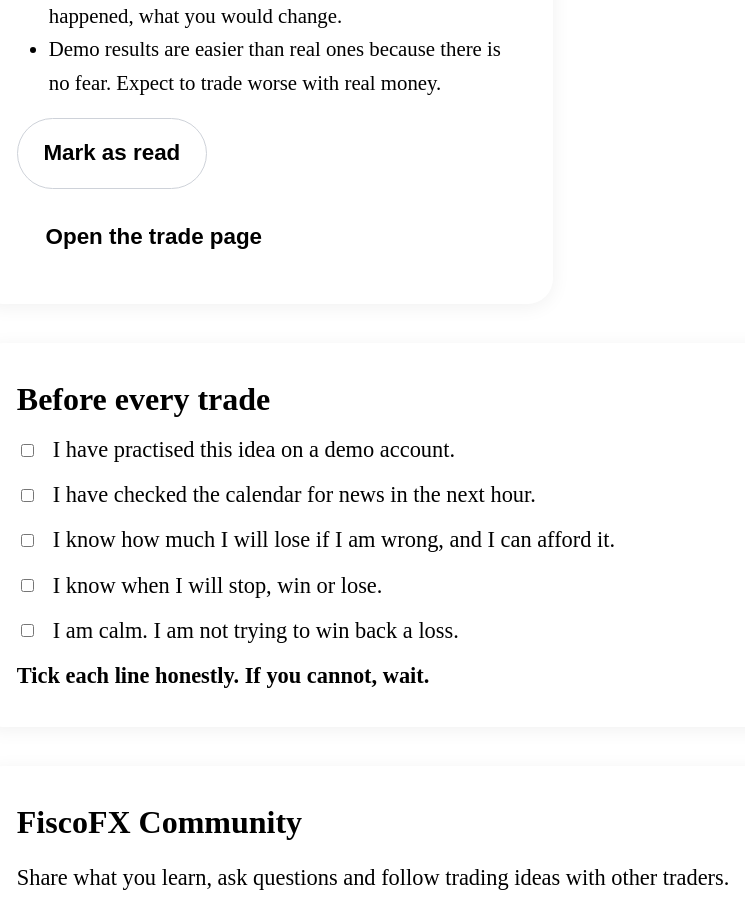
<Learn /> › only says "you have thought it through" when every checklist line is ticked
The width and height of the screenshot is (745, 900).
(page scrolled)
Expected: the text with test id "dt_learn_ready" shows "Tick each line honestly", [17,663,429,688]
Click the checkbox with test id "dt_learn_check_demo" at x=27, y=450, box [21,444,34,457]
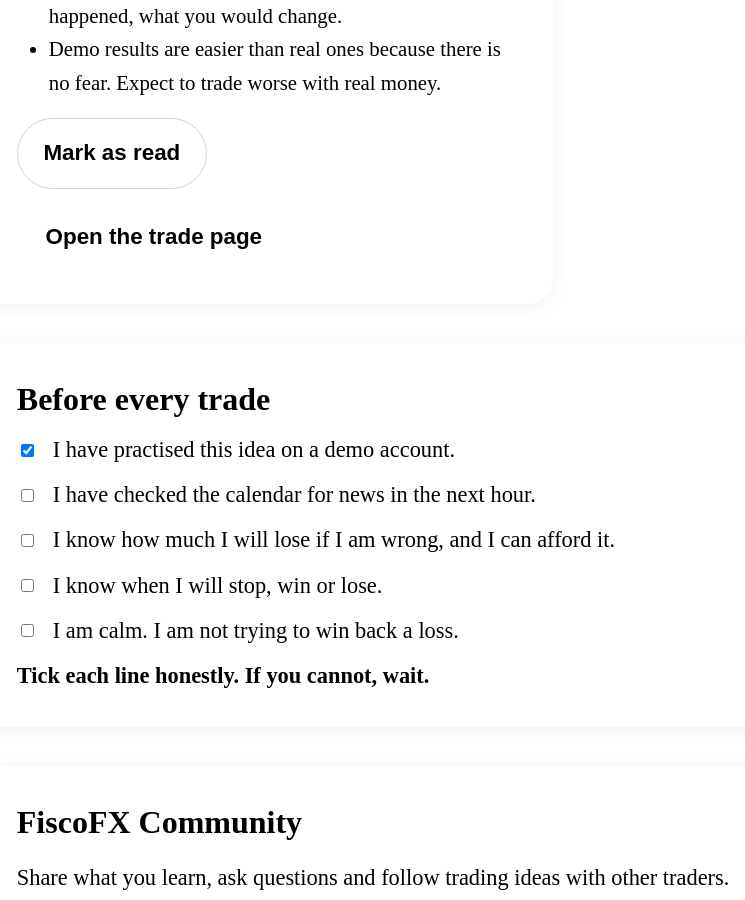
Click the checkbox labelled "I have checked the calendar for news in the next hour." at x=27, y=495, box [21,489,34,502]
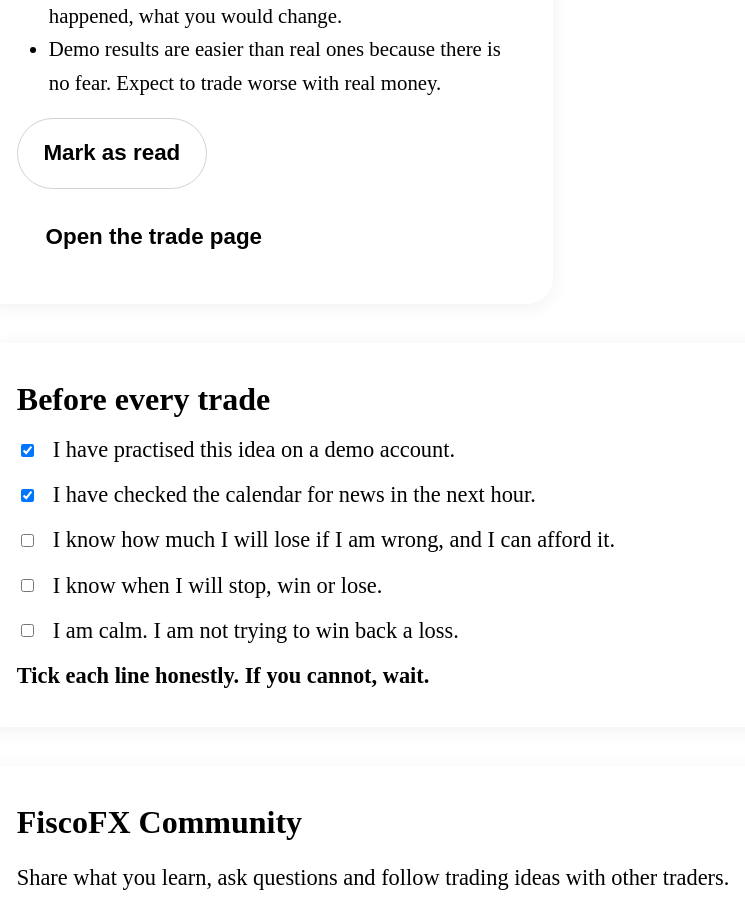
Click the 3rd checkbox at x=27, y=540, box [21,534,34,547]
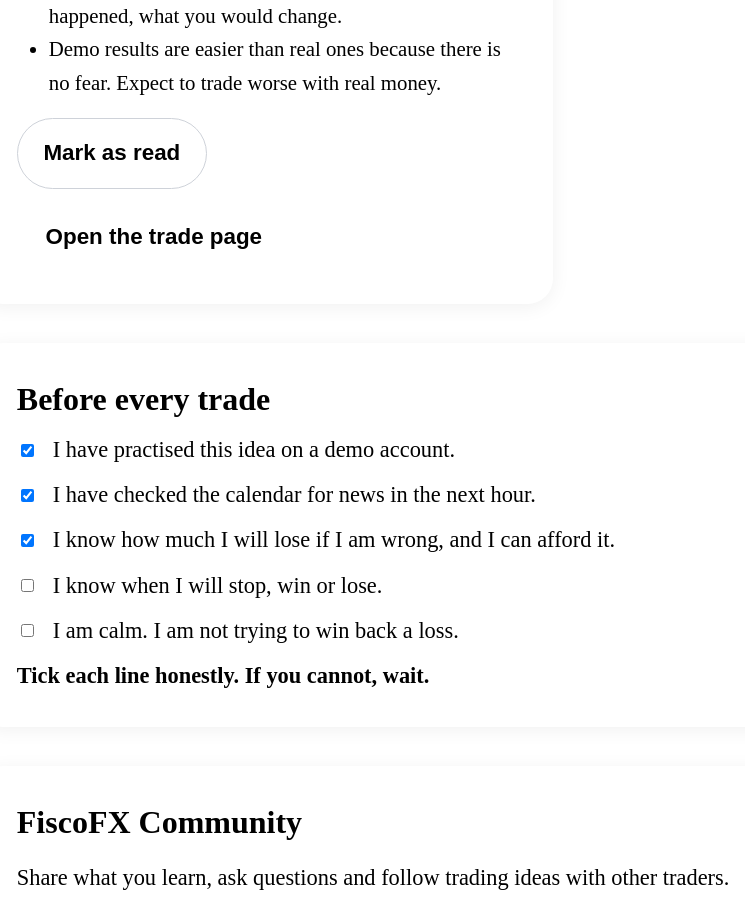
Click the checkbox labelled "I know when I will stop, win or lose." at x=27, y=586, box [21,579,34,592]
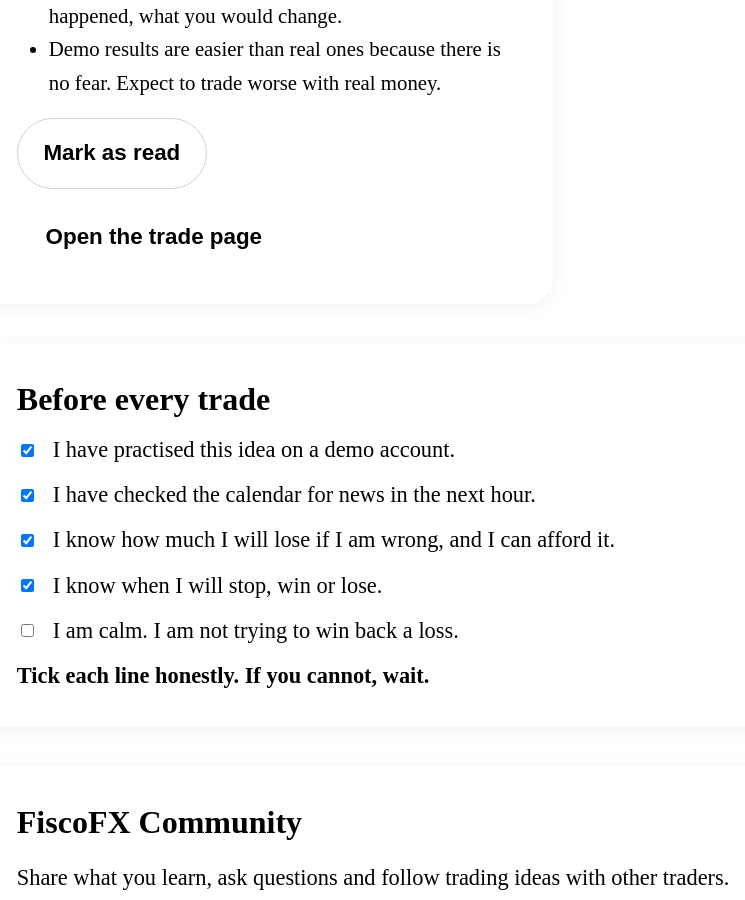
Expected: the text with test id "dt_learn_ready" shows "Tick each line honestly", [17,663,429,688]
Click the checkbox with test id "dt_learn_check_calm" at x=27, y=631, box [21,624,34,637]
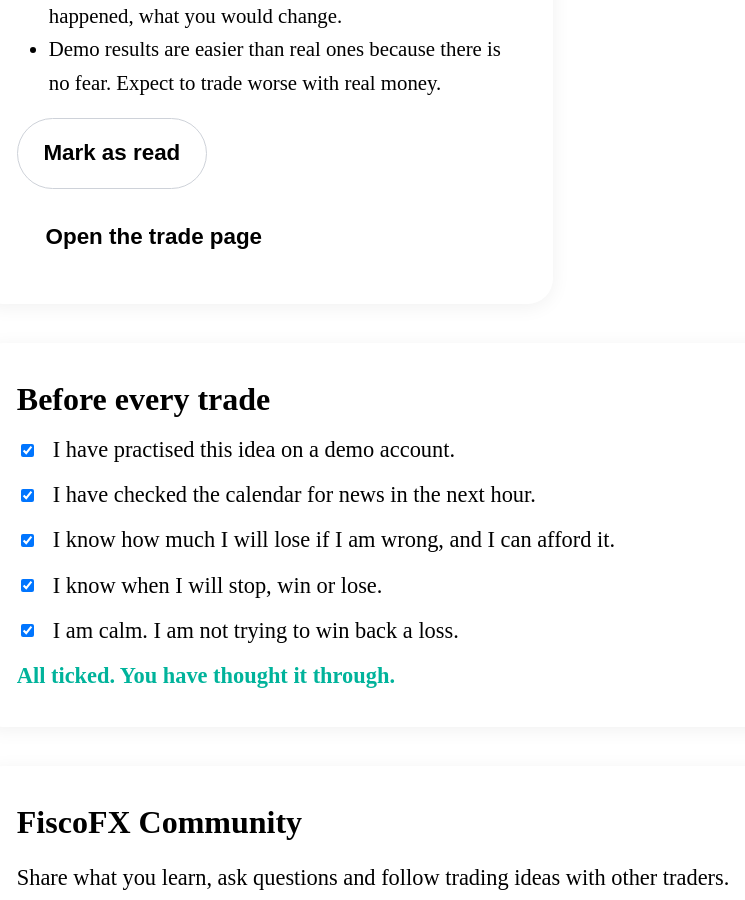
Now the text with test id "dt_learn_ready" shows "All ticked", box [17,663,395,688]
Click the checkbox with test id "dt_learn_check_calm" at x=27, y=631, box [21,624,34,637]
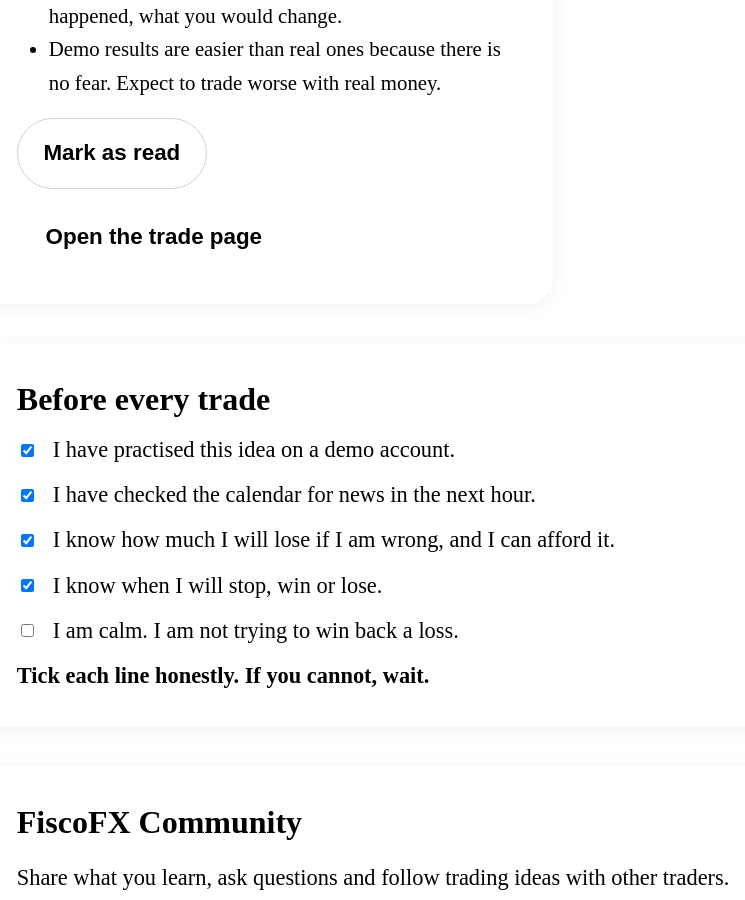
Now the text with test id "dt_learn_ready" shows "Tick each line honestly", box [17,663,429,688]
